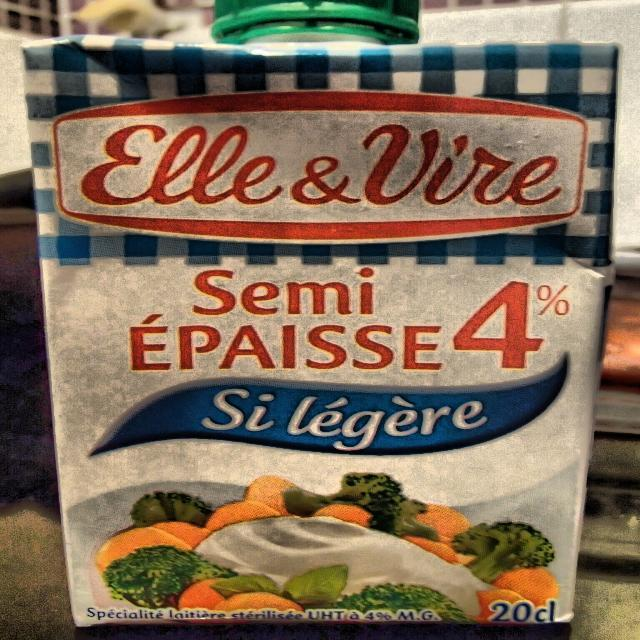cardboard: (20, 33, 620, 632)
